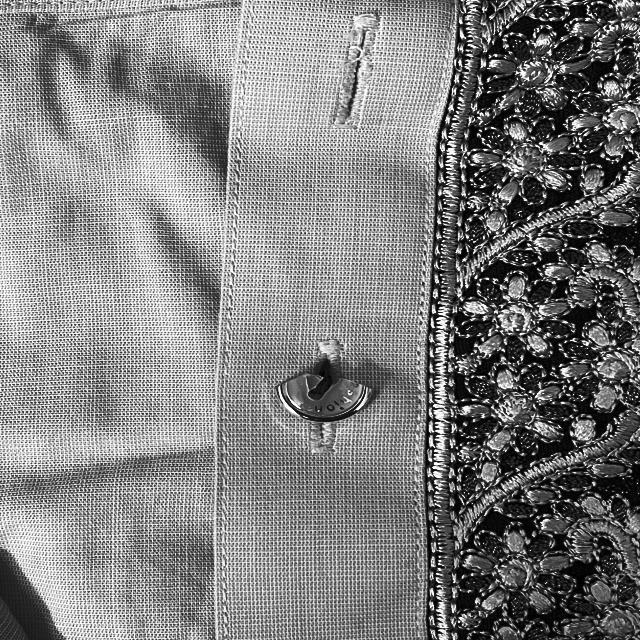Broken_button: (271, 335, 384, 446)
